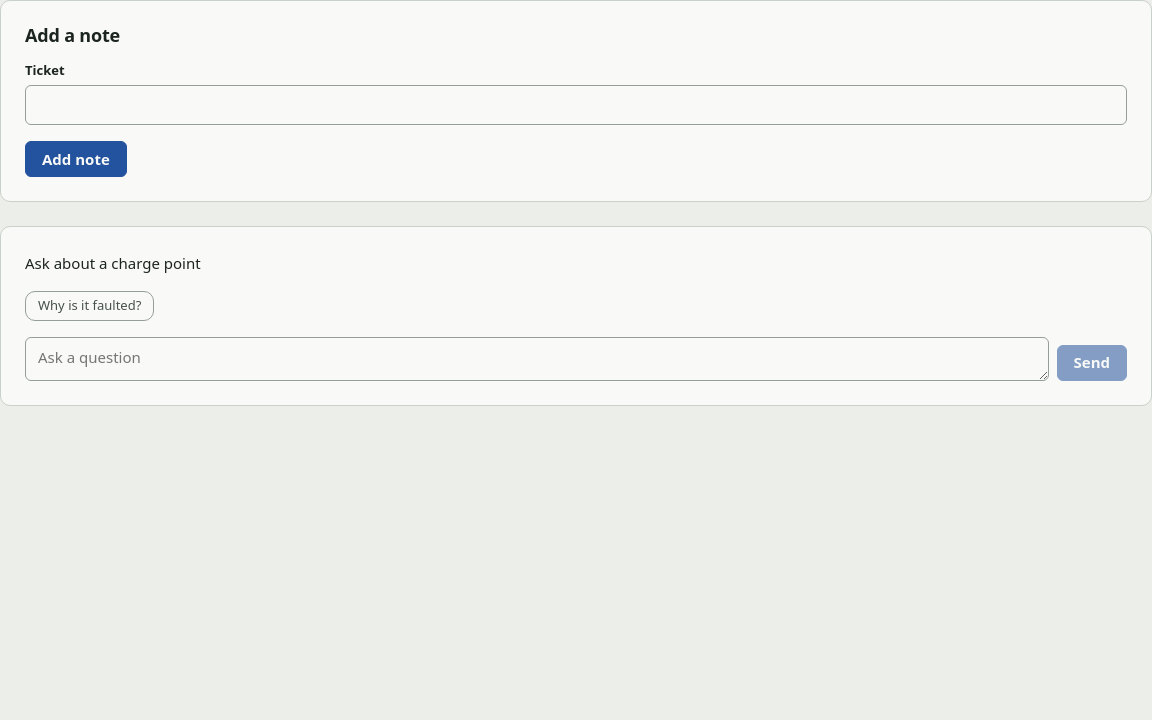
it: running an app › streams an answer into the conversation and sends the history with the next question
Step 1. Click the button "Why is it faulted?" → click(90, 306), box [25,291,154,321]
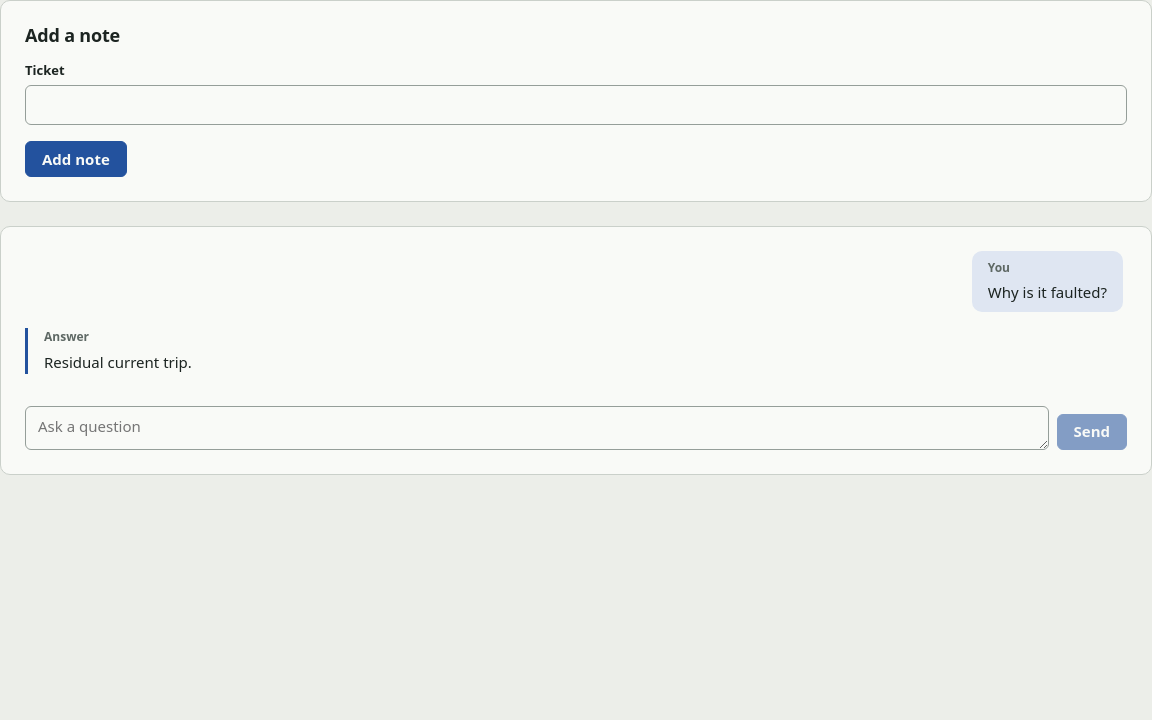
Expected: the text "Residual current trip." is shown, [44,352,192,372]
Step 2. Type "And then?" into the text box named "Message" → (537, 428), box [25,406,1048,450]
Then press Enter
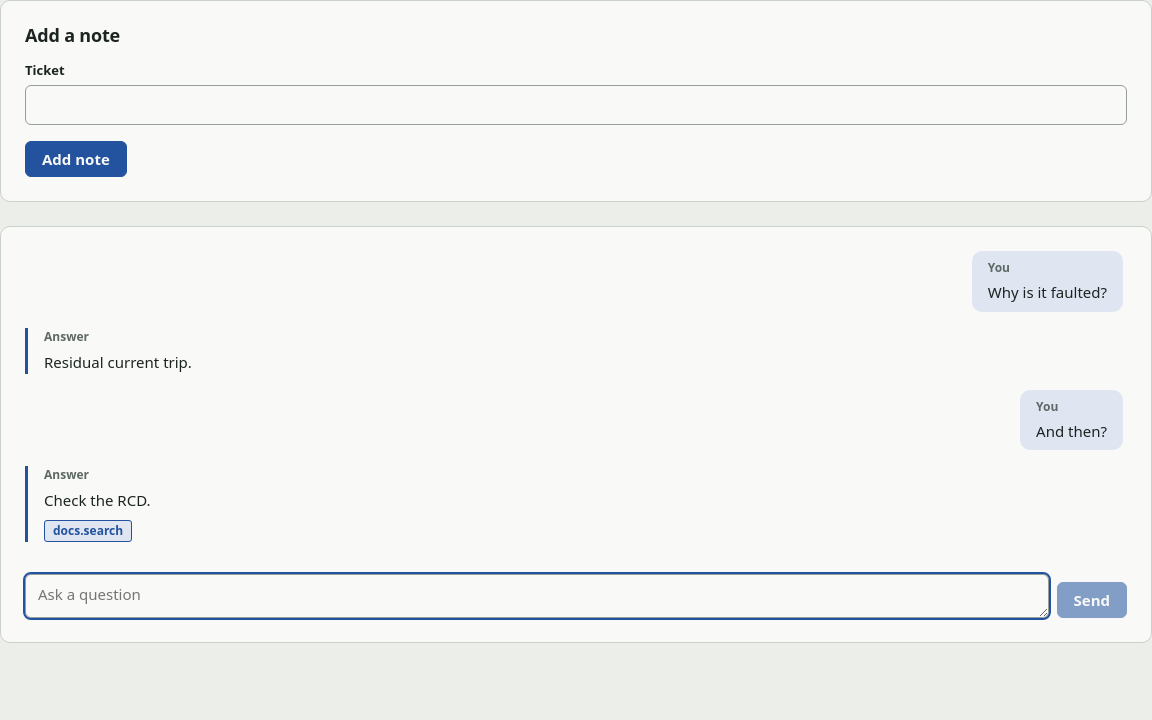
Expected: the text "Check the RCD." is shown, [44,490,150,510]
Expected: the number of list items "docs.search" is 1, [44,520,132,542]
